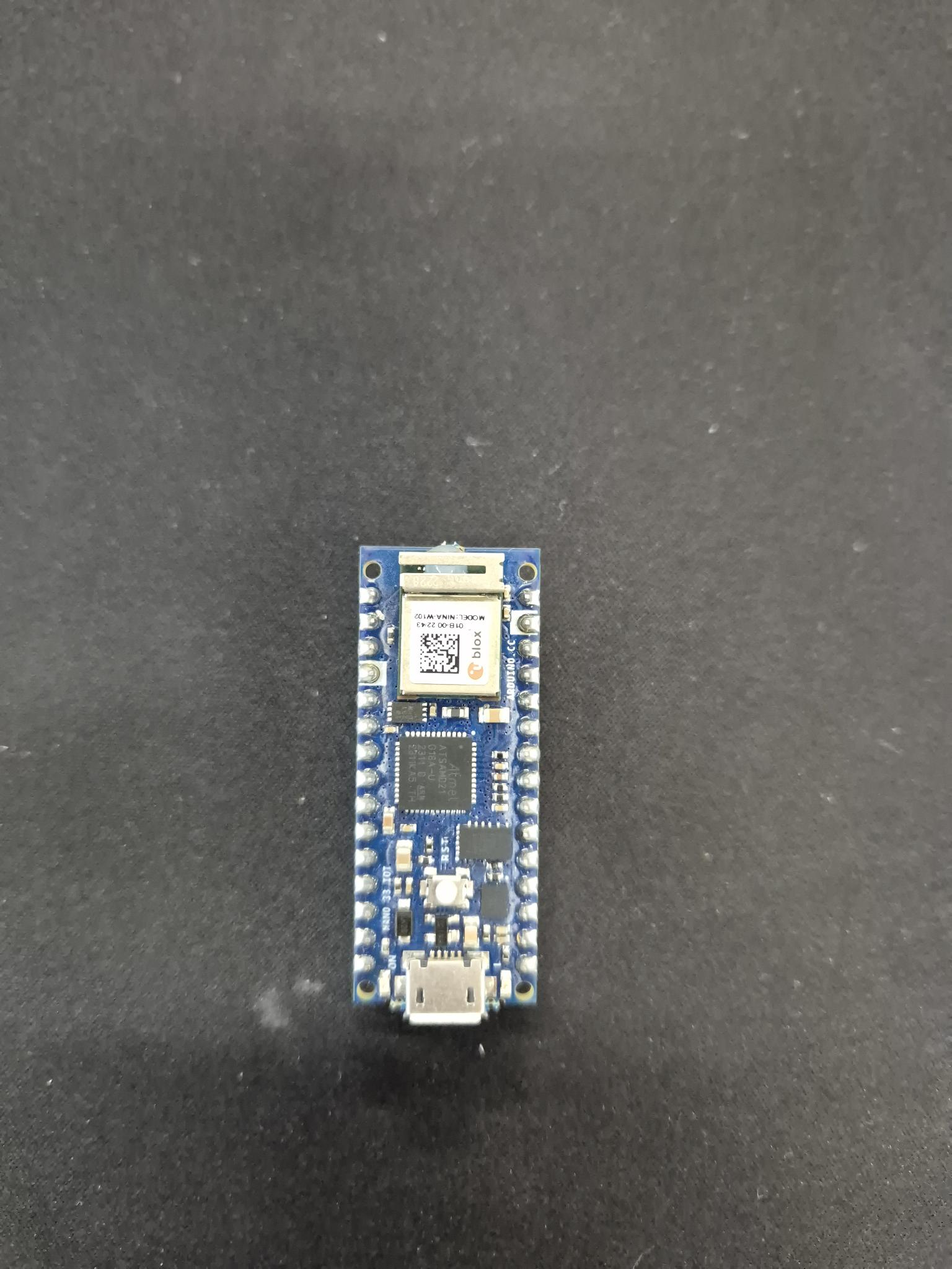arduino-nano-iot-33: (353, 542, 544, 1052)
